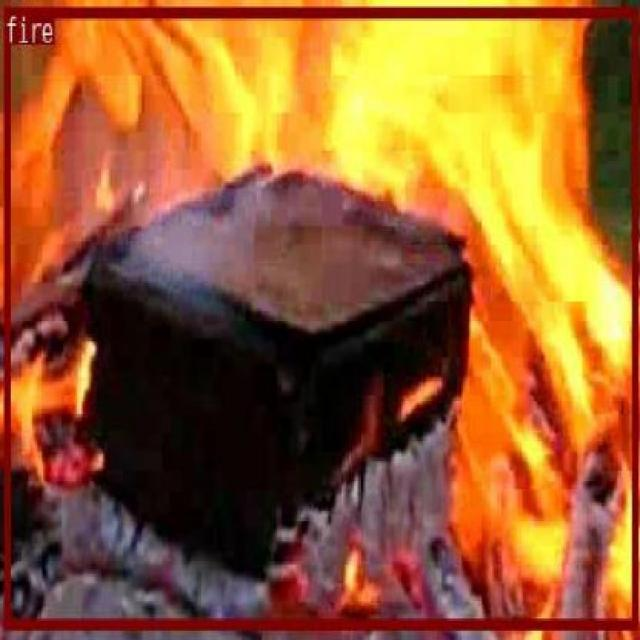Fire: (3, 5, 637, 628)
